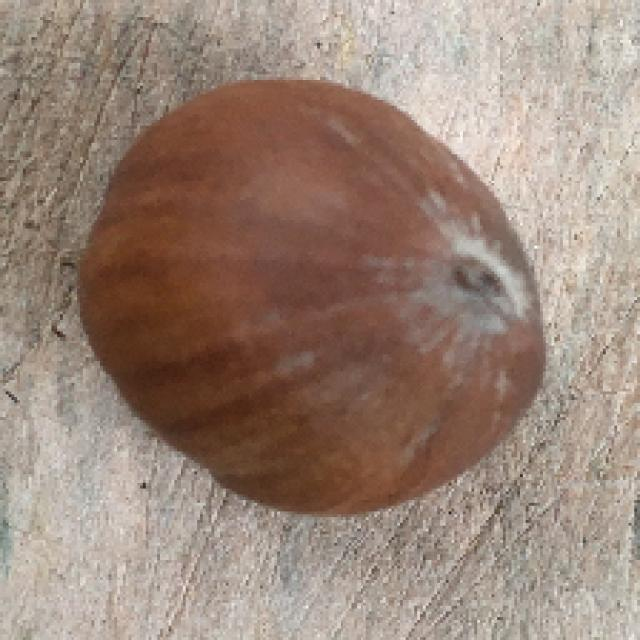damagedHazelnut: (84, 77, 556, 520)
